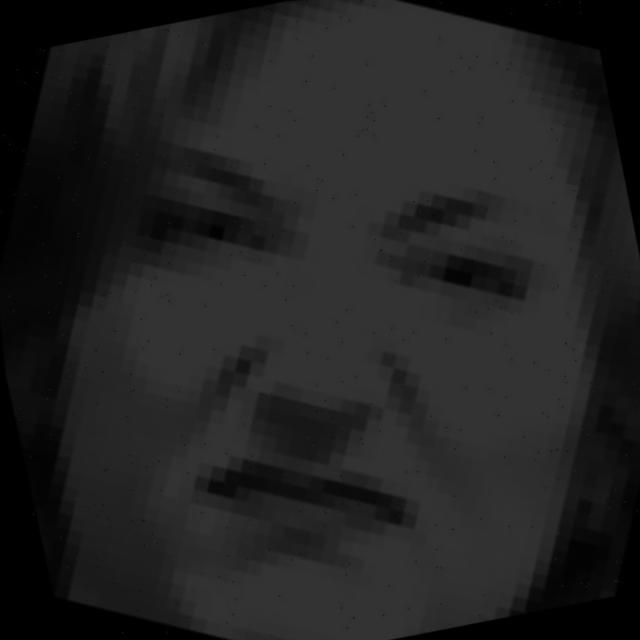Disgust: (47, 98, 632, 591)
